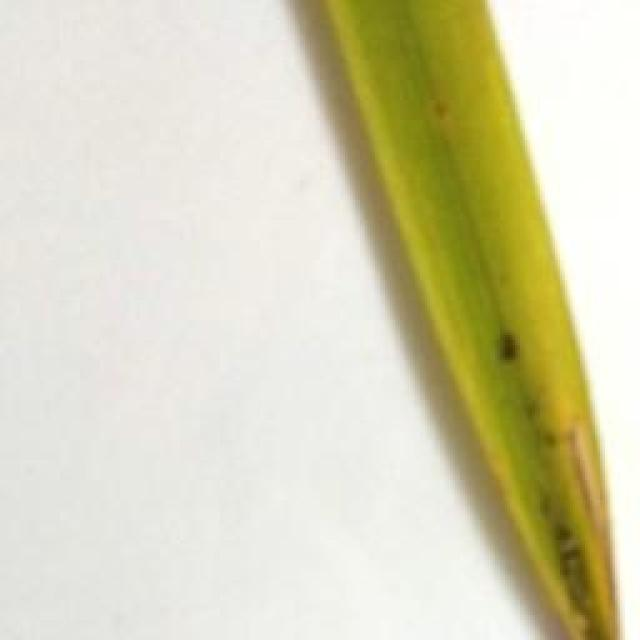Brown_Spot: (534, 497, 612, 640), (492, 328, 530, 371)
